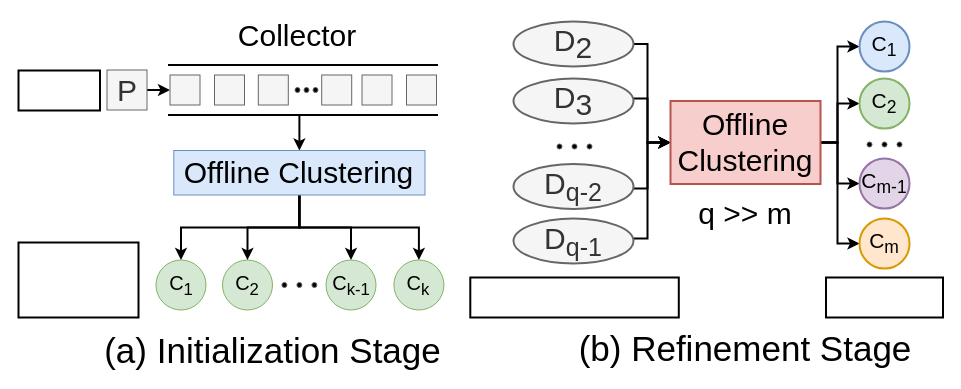
Image size: 961x389. Some labels were removed from this diagram. The centre of each missing label's shape, as x and y in pixels:
Data Structure: (574,297)
Initial Clusters: (78,279)
Input: (58,90)
Results: (884,297)
